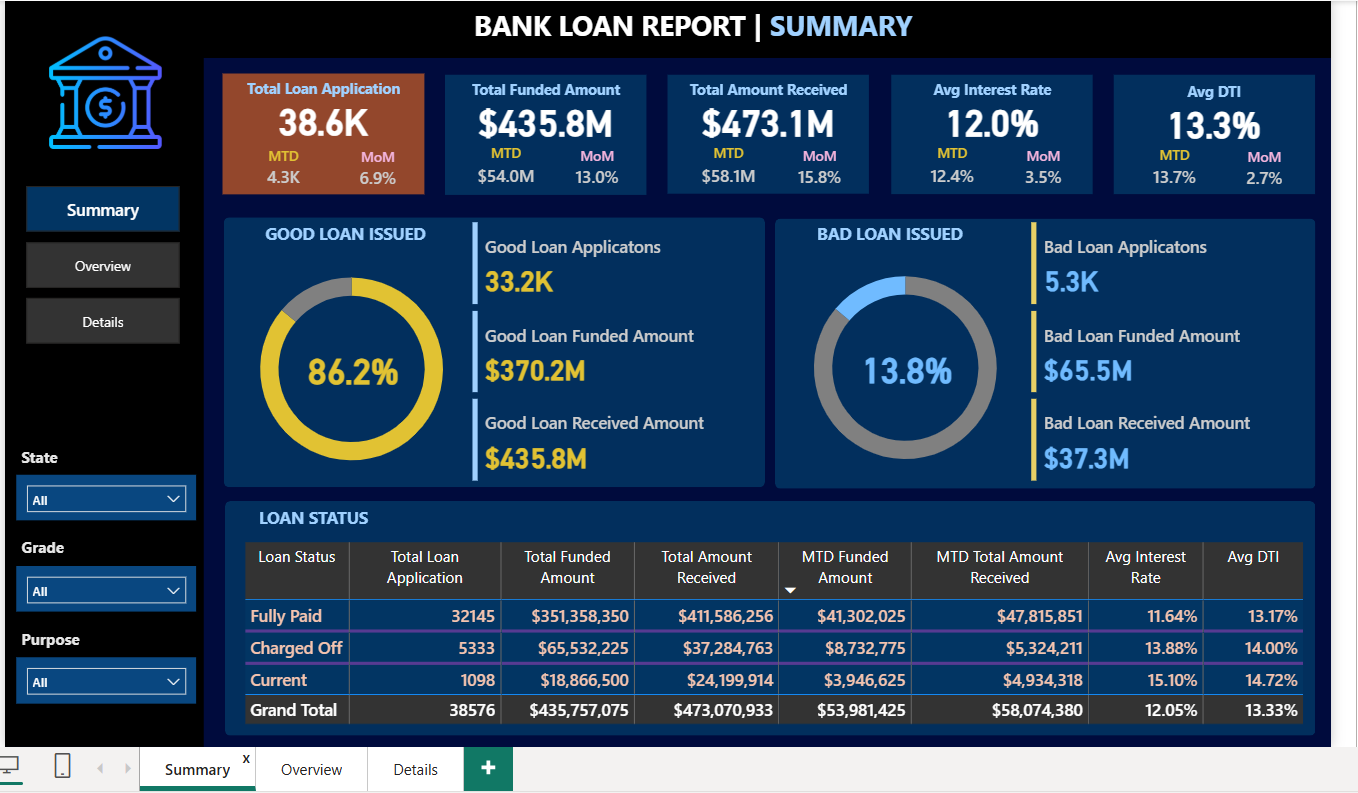

The page's visual inventory and layout, read from the dashboard file:
{"tool":"powerbi","page":{"name":"Summary","canvas":[1280,720],"ordinal":1},"visuals":[{"type":"shape","box":[629.2,66.4,193.8,114.2],"z":0,"group":"g3"},{"type":"shape","box":[839.7,67.5,194.5,114],"z":0,"group":"g4"},{"type":"shape","box":[214.3,68.6,194.3,114.3],"z":0,"group":"g1"},{"type":"shape","box":[421.4,68.6,194.5,114],"z":0,"group":"g2"},{"type":"shape","box":[1047.1,68.6,194.5,113.1],"z":0,"group":"g5"},{"type":"shape","box":[214.3,204.3,508.6,260],"z":0},{"type":"card","fields":{"Values":["table_measures.avg_interest_rate"]},"box":[851.5,82.1,165.9,58.4],"z":1000,"group":"g4"},{"type":"card","fields":{"Values":["table_measures.avg_DTI"]},"box":[1058.9,83.1,165.9,57.9],"z":1000,"group":"g5"},{"type":"card","fields":{"Values":["table_measures.total_loan_appl"]},"box":[247.2,83.2,124.3,61.3],"z":1000,"group":"g1"},{"type":"card","fields":{"Values":["table_measures.total_funded_amt"]},"box":[433.2,83.2,165.9,58.4],"z":1000,"group":"g2"},{"type":"card","fields":{"Values":["table_measures.total_received_amt"]},"box":[643.2,85.3,163.1,55.8],"z":1000,"group":"g3"},{"type":"donutChart","fields":{"Category":["financial_loan.Good vs Band Loan"],"Y":["table_measures.total_loan_appl"]},"box":[220,234.3,250,230],"z":1000},{"type":"shape","box":[0,0,1242.3,54.5],"z":2000},{"type":"textbox","box":[632.2,67,191,41.6],"z":2000,"group":"g3"},{"type":"textbox","box":[839.7,67.5,194.5,38.9],"z":2000,"group":"g4"},{"type":"textbox","box":[214.3,68.6,194.3,39],"z":2000,"group":"g1"},{"type":"textbox","box":[421.4,68.6,194.5,38.9],"z":2000,"group":"g2"},{"type":"textbox","box":[1047.1,68.6,194.5,38.6],"z":2000,"group":"g5"},{"type":"shape","box":[0,54.7,191.9,654.7],"z":3000},{"type":"card","title":"MTD","fields":{"Values":["table_measures.MTD_loan_appl"]},"box":[235.7,132.7,51.4,50.2],"z":3000,"group":"g1"},{"type":"card","title":"MTD","fields":{"Values":["table_measures.MTD_interest_rate"]},"box":[851.5,136.3,70.1,48.6],"z":3000,"group":"g4"},{"type":"card","title":"MTD","fields":{"Values":["table_measures.MTD_avg_DTI"]},"box":[1058.9,136.9,70.1,48.3],"z":3000,"group":"g5"},{"type":"card","title":"MTD","fields":{"Values":["table_measures.MTD_received_amt"]},"box":[643.2,137.1,68.9,46.5],"z":3000,"group":"g3"},{"type":"card","title":"MTD","fields":{"Values":["table_measures.MTD_funded_amt"]},"box":[433.2,137.4,70.1,48.6],"z":3000,"group":"g2"},{"type":"card","title":"MoM","fields":{"Values":["table_measures.MOM_loan_appl"]},"box":[320,132.7,51.4,50.2],"z":4000,"group":"g1"},{"type":"card","title":"MoM","fields":{"Values":["table_measures.MOM_interest_rate"]},"box":[946.6,136.1,57.8,49.7],"z":4000,"group":"g4"},{"type":"card","title":"MoM","fields":{"Values":["table_measures.MOM_avg_DTI"]},"box":[1154,136.7,57.8,49.3],"z":4000,"group":"g5"},{"type":"card","title":"MoM","fields":{"Values":["table_measures.MOM_received_amt"]},"box":[736.7,136.9,56.8,47.5],"z":4000,"group":"g3"},{"type":"card","title":"MoM","fields":{"Values":["table_measures.MOM_funded_amt"]},"box":[528.3,137.2,57.8,49.7],"z":4000,"group":"g2"},{"type":"textbox","box":[13.8,417,119.7,38.5],"z":4000},{"type":"textbox","box":[235.7,204.3,207.1,34.3],"z":5000},{"type":"card","fields":{"Values":["table_measures.good_loan_per"]},"box":[287.1,321.4,118.6,57.1],"z":6000},{"type":"textbox","box":[509.2,1.4,447.3,49.5],"z":7000},{"type":"group","id":"g1","title":"Group 1","box":[214.3,68.6,194.3,114.3],"z":8000},{"type":"group","id":"g2","title":"Group 1","box":[421.4,68.6,194.3,118],"z":9000},{"type":"group","id":"g3","title":"Group 1","box":[629.2,66.4,194,118],"z":10000},{"type":"group","id":"g4","title":"Group 1","box":[839.7,67.5,194.5,118.2],"z":11000},{"type":"group","id":"g5","title":"Group 1","box":[1047.1,68.6,194.3,117.1],"z":12000},{"type":"shape","box":[732.9,204.3,508.6,260],"z":13000},{"type":"cardVisual","fields":{"Data":["table_measures.good_loan_appl","table_measures.good_loan_funded_amt","table_measures.good_loan_received_amt"]},"box":[470,204.3,252.9,260],"z":14000},{"type":"donutChart","fields":{"Category":["financial_loan.Good vs Band Loan"],"Y":["table_measures.total_loan_appl"]},"box":[737.1,234.3,250,230],"z":15000},{"type":"card","fields":{"Values":["table_measures.bad_loan_per"]},"box":[805.7,321.4,118.6,57.1],"z":16000},{"type":"textbox","box":[748.6,204.3,207.1,34.3],"z":17000},{"type":"cardVisual","fields":{"Data":["table_measures.bad_loan_appl","table_measures.bad_loan_funded_amt","table_measures.bad_loan_received_amt"]},"box":[975.7,204.3,252.9,260],"z":18000},{"type":"shape","box":[214,479.1,1026.7,230.2],"z":19000},{"type":"tableEx","fields":{"Values":["financial_loan.loan_status","table_measures.total_loan_appl","table_measures.total_funded_amt","table_measures.total_received_amt","table_measures.MTD_funded_amt","table_measures.MTD_received_amt","table_measures.avg_interest_rate","table_measures.avg_DTI"]},"box":[220.4,509.8,1008.5,200.4],"z":20000},{"type":"textbox","box":[646.8,479.8,170.3,34.5],"z":21000},{"type":"slicer","fields":{"Values":["financial_loan.address_state"]},"box":[6.9,436.3,180.3,50.9],"z":22000},{"type":"slicer","fields":{"Values":["financial_loan.grade"]},"box":[6.9,518.9,180.3,50.9],"z":23000},{"type":"textbox","box":[13.8,495.5,119.7,38.5],"z":24000},{"type":"pageNavigator","box":[6.9,196.8,178.9,163.8],"z":25000},{"type":"image","box":[0,1.4,187.2,156.9],"z":26000},{"type":"slicer","fields":{"Values":["financial_loan.Good vs Band Loan"]},"box":[8.3,602.8,180.3,50.9],"z":27000},{"type":"textbox","box":[15.1,579.4,163.8,38.5],"z":28000}]}

Visuals, with their boxes on the page's 1280x720 design canvas (x1, y1, x2, y2). These are canvas units, not pixel positions in the 1358x793 screenshot, which may show the page scaled, cropped or inside an application window:
shape: x1=629, y1=66, x2=823, y2=181
shape: x1=840, y1=68, x2=1034, y2=182
shape: x1=214, y1=69, x2=409, y2=183
shape: x1=421, y1=69, x2=616, y2=183
shape: x1=1047, y1=69, x2=1242, y2=182
shape: x1=214, y1=204, x2=723, y2=464
card - table_measures.avg_interest_rate: x1=852, y1=82, x2=1017, y2=140
card - table_measures.avg_DTI: x1=1059, y1=83, x2=1225, y2=141
card - table_measures.total_loan_appl: x1=247, y1=83, x2=372, y2=144
card - table_measures.total_funded_amt: x1=433, y1=83, x2=599, y2=142
card - table_measures.total_received_amt: x1=643, y1=85, x2=806, y2=141
donutChart - financial_loan.Good vs Band Loan x table_measures.total_loan_appl: x1=220, y1=234, x2=470, y2=464
shape: x1=0, y1=0, x2=1242, y2=54
textbox: x1=632, y1=67, x2=823, y2=109
textbox: x1=840, y1=68, x2=1034, y2=106
textbox: x1=214, y1=69, x2=409, y2=108
textbox: x1=421, y1=69, x2=616, y2=108
textbox: x1=1047, y1=69, x2=1242, y2=107
shape: x1=0, y1=55, x2=192, y2=709
"MTD" card: x1=236, y1=133, x2=287, y2=183
"MTD" card: x1=852, y1=136, x2=922, y2=185
"MTD" card: x1=1059, y1=137, x2=1129, y2=185
"MTD" card: x1=643, y1=137, x2=712, y2=184
"MTD" card: x1=433, y1=137, x2=503, y2=186
"MoM" card: x1=320, y1=133, x2=371, y2=183
"MoM" card: x1=947, y1=136, x2=1004, y2=186
"MoM" card: x1=1154, y1=137, x2=1212, y2=186
"MoM" card: x1=737, y1=137, x2=794, y2=184
"MoM" card: x1=528, y1=137, x2=586, y2=187
textbox: x1=14, y1=417, x2=134, y2=456
textbox: x1=236, y1=204, x2=443, y2=239
card - table_measures.good_loan_per: x1=287, y1=321, x2=406, y2=378
textbox: x1=509, y1=1, x2=956, y2=51
"Group 1" group: x1=214, y1=69, x2=409, y2=183
"Group 1" group: x1=421, y1=69, x2=616, y2=187
"Group 1" group: x1=629, y1=66, x2=823, y2=184
"Group 1" group: x1=840, y1=68, x2=1034, y2=186
"Group 1" group: x1=1047, y1=69, x2=1241, y2=186
shape: x1=733, y1=204, x2=1242, y2=464
cardVisual - table_measures.good_loan_appl x table_measures.good_loan_funded_amt: x1=470, y1=204, x2=723, y2=464
donutChart - financial_loan.Good vs Band Loan x table_measures.total_loan_appl: x1=737, y1=234, x2=987, y2=464
card - table_measures.bad_loan_per: x1=806, y1=321, x2=924, y2=378
textbox: x1=749, y1=204, x2=956, y2=239
cardVisual - table_measures.bad_loan_appl x table_measures.bad_loan_funded_amt: x1=976, y1=204, x2=1229, y2=464
shape: x1=214, y1=479, x2=1241, y2=709
tableEx - financial_loan.loan_status x table_measures.total_loan_appl: x1=220, y1=510, x2=1229, y2=710
textbox: x1=647, y1=480, x2=817, y2=514
slicer - financial_loan.address_state: x1=7, y1=436, x2=187, y2=487
slicer - financial_loan.grade: x1=7, y1=519, x2=187, y2=570
textbox: x1=14, y1=496, x2=134, y2=534
pageNavigator: x1=7, y1=197, x2=186, y2=361
image: x1=0, y1=1, x2=187, y2=158
slicer - financial_loan.Good vs Band Loan: x1=8, y1=603, x2=189, y2=654
textbox: x1=15, y1=579, x2=179, y2=618
